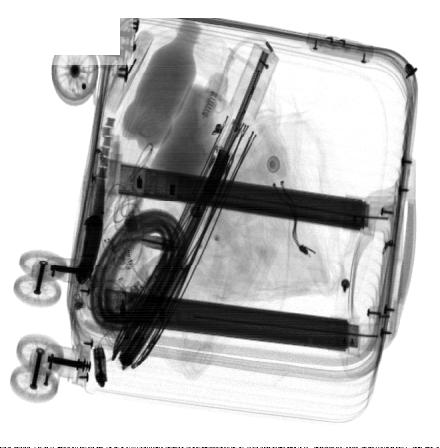Knife: (75, 166, 105, 286)
